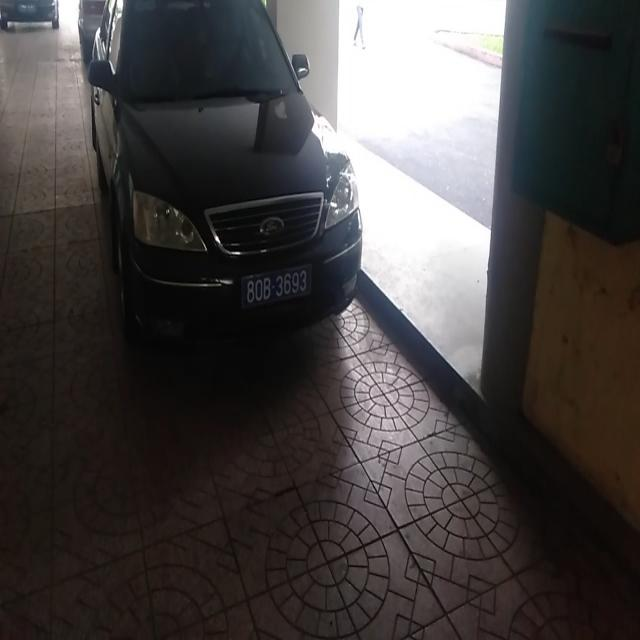bien_xanh: (243, 269, 313, 306)
